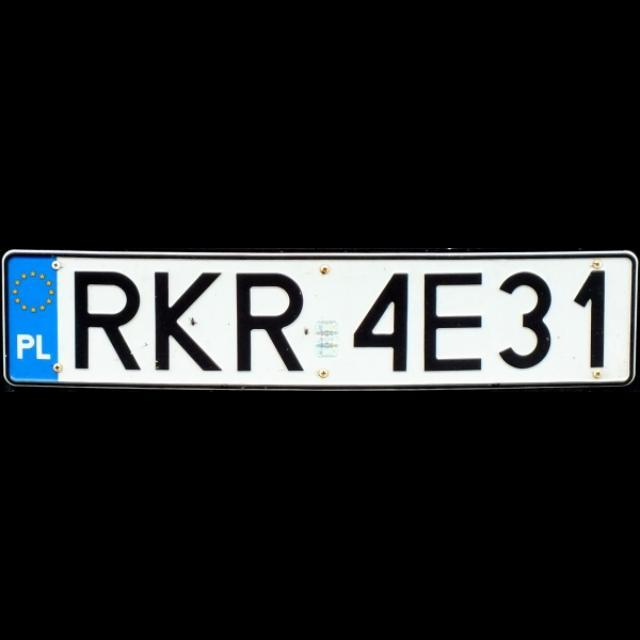license-plates: (5, 253, 633, 387)
